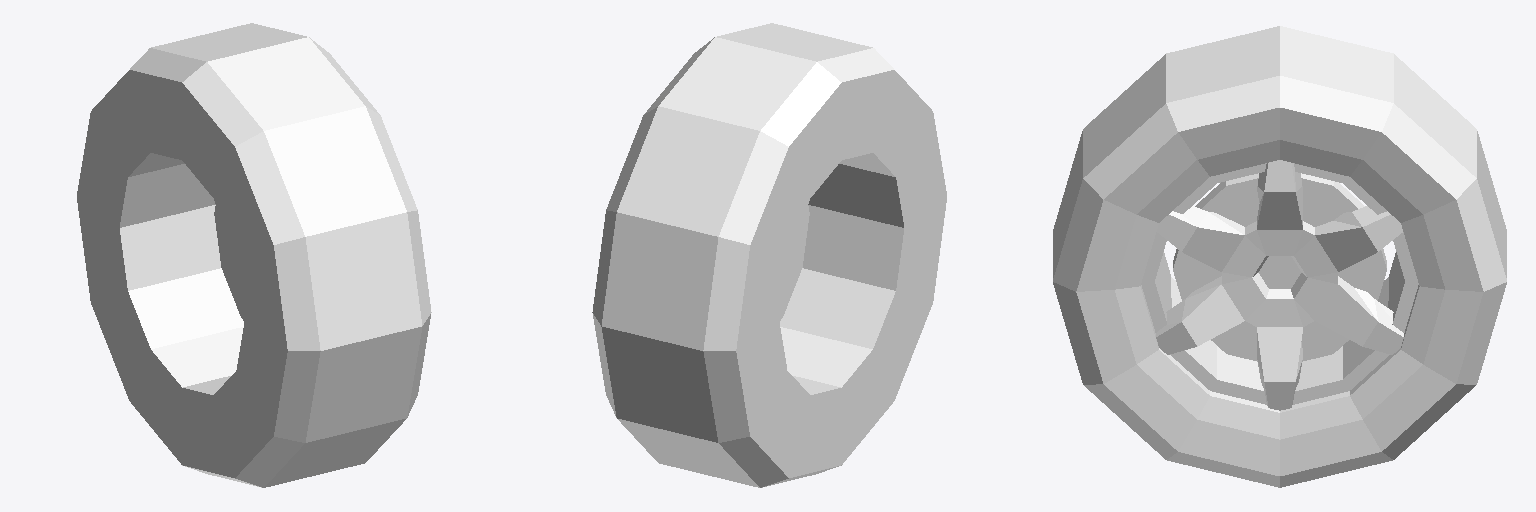
File: wheel_fl.obj
The picture shows the model from 3 angles: view 1: azimuth 30°, elevation 25°; view 2: azimuth 150°, elevation 25°; view 3: azimuth 270°, elevation 25°; orthographic projection.
Visible parts, largest first — view 1: front_left_SM_Veh_Car_Taxi_Wheel_fl_网格.002; view 2: front_left_SM_Veh_Car_Taxi_Wheel_fl_网格.002; view 3: front_left_SM_Veh_Car_Taxi_Wheel_fl_网格.002.
Part boxes in pixels (x1,y1,x2,y2): front_left_SM_Veh_Car_Taxi_Wheel_fl_网格.002: (77,23,431,487); front_left_SM_Veh_Car_Taxi_Wheel_fl_网格.002: (592,23,946,487); front_left_SM_Veh_Car_Taxi_Wheel_fl_网格.002: (1053,26,1506,487).
Size of the model in its own units: 0.2708 by 0.7231 by 0.7231.